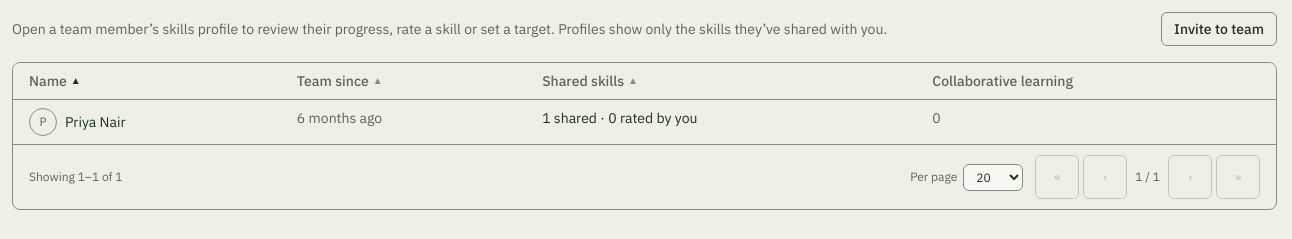
Scenario: ManagerTeamPanel › opens the member's skills profile from the shared-skills summary
Step 1. Click the button "1 shared · 0 rated by you" → click(620, 118), box x1=542 y1=108 x2=698 y2=128
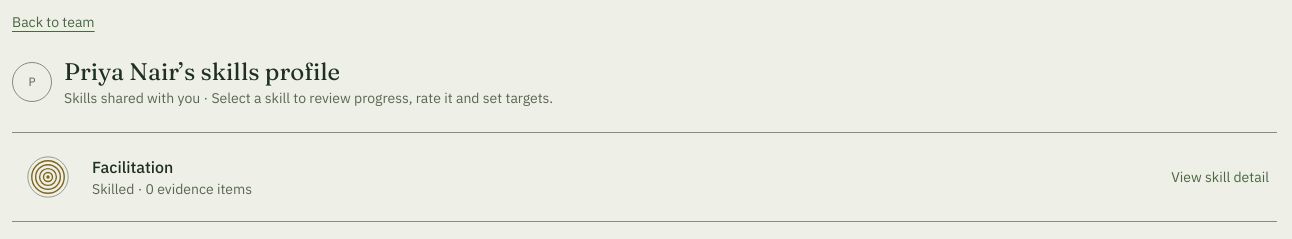
Expected: the heading "Priya Nair’s skills profile" is shown, x1=64 y1=57 x2=340 y2=86
